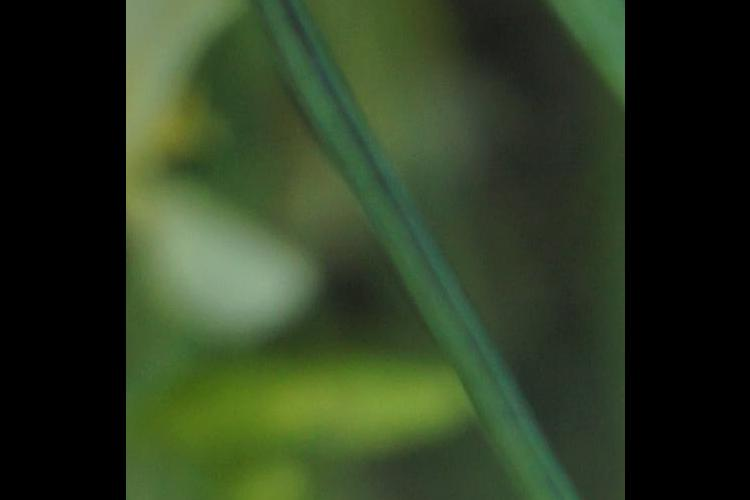pod: (204, 1, 613, 500)
